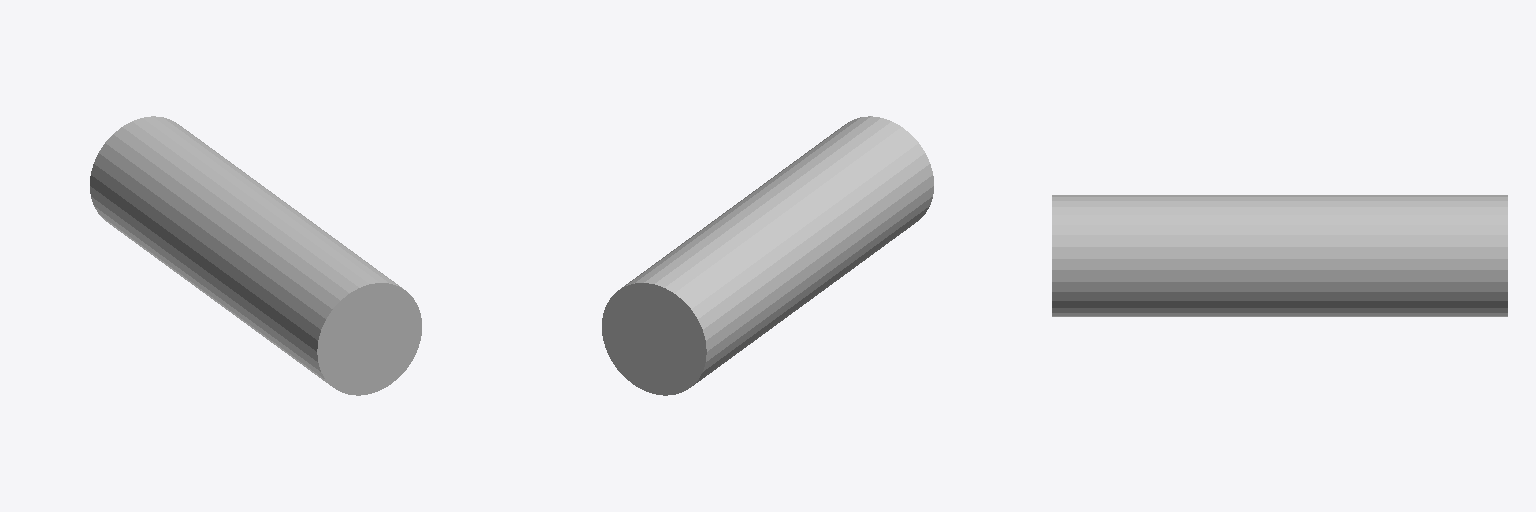
Rendered from pipe_phy.obj.
3 views of the same model, side by side, from view 1: azimuth 30°, elevation 25°; view 2: azimuth 150°, elevation 25°; view 3: azimuth 270°, elevation 25° (orthographic).
Bounding box in the file's own units: 0.4 × 0.4 × 1.5.